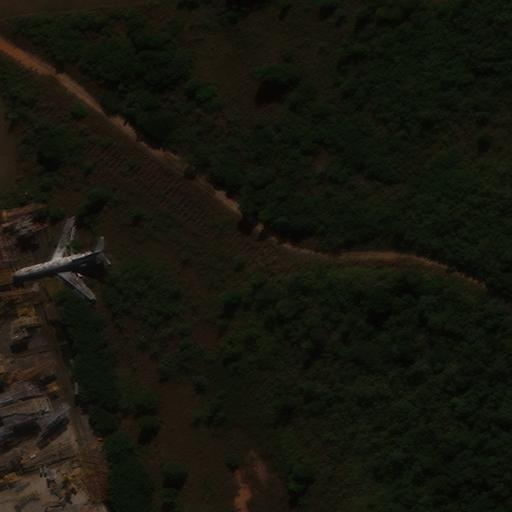Medium Civil Transport: (13, 219, 105, 299)
